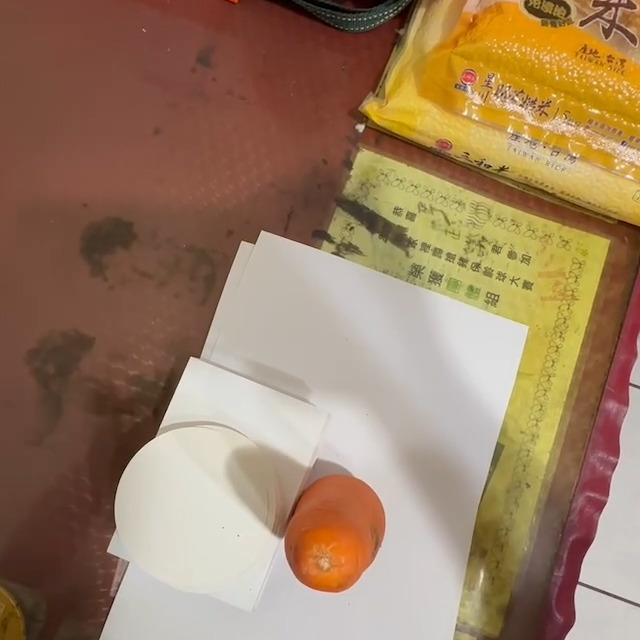carrot: (288, 477, 388, 593)
